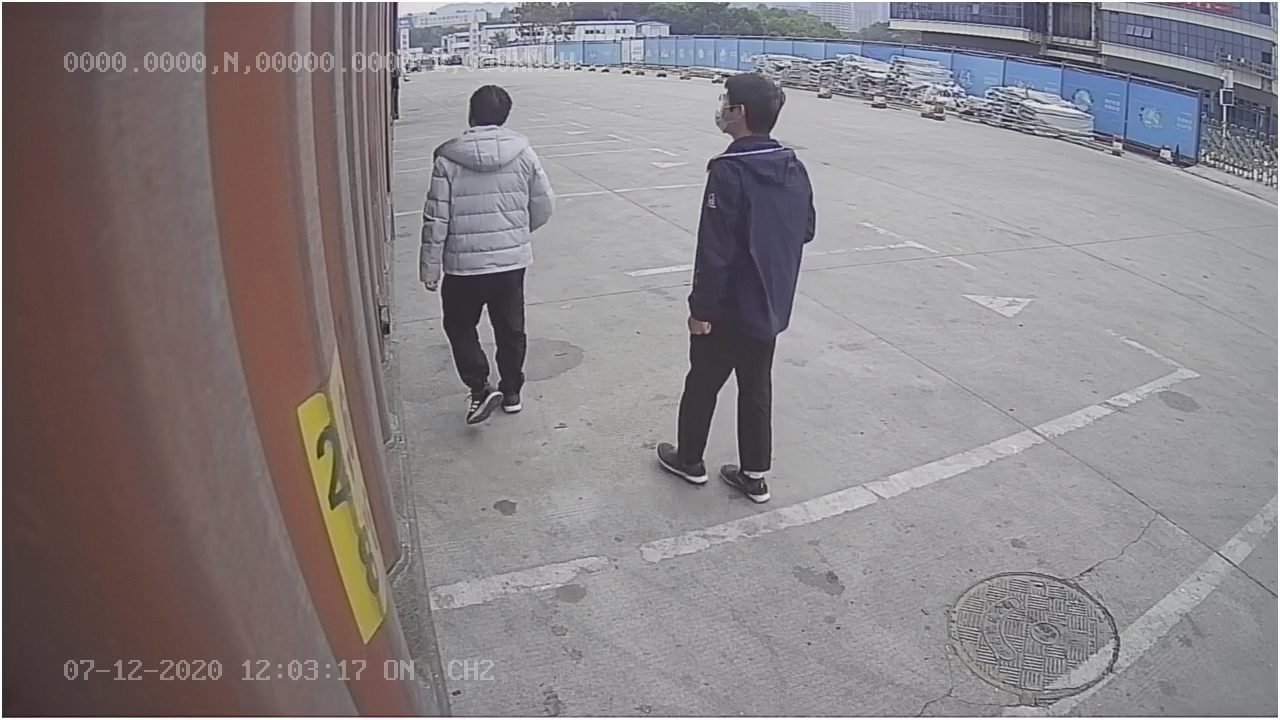person: (649, 69, 819, 503), (421, 80, 564, 429)
